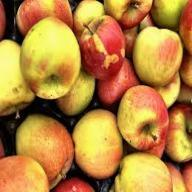apple: (20, 19, 84, 99), (72, 108, 125, 176), (118, 84, 170, 150), (82, 18, 126, 72), (118, 151, 174, 190)
